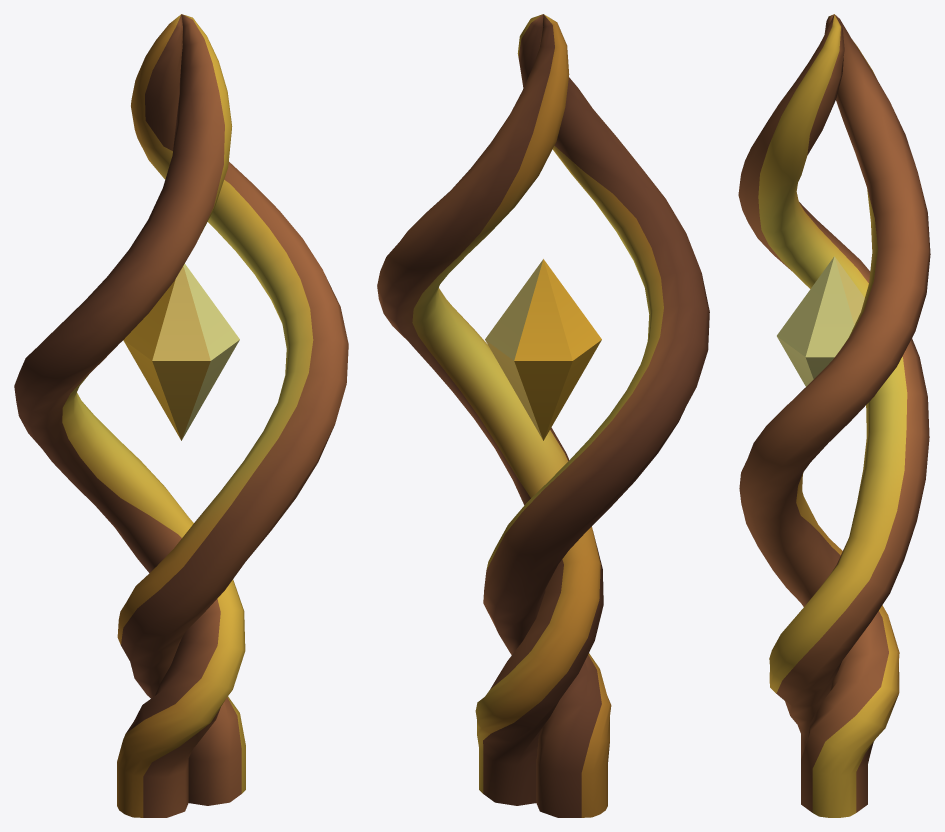
Rendered from Infinity_Tree_Remake.glb.
3 renders of one model, left to right at view 1: azimuth 30°, elevation 25°; view 2: azimuth 150°, elevation 25°; view 3: azimuth 270°, elevation 25°, orthographic.
Parts seen in each view (by area): view 1: Infinity_Remake; view 2: Infinity_Remake; view 3: Infinity_Remake.
Part boxes in pixels (x1,y1,x2,y2): Infinity_Remake: [14, 14, 348, 817]; Infinity_Remake: [377, 14, 709, 817]; Infinity_Remake: [738, 14, 930, 817].
Size of the model in its own units: 6.16 by 15.05 by 3.38.
